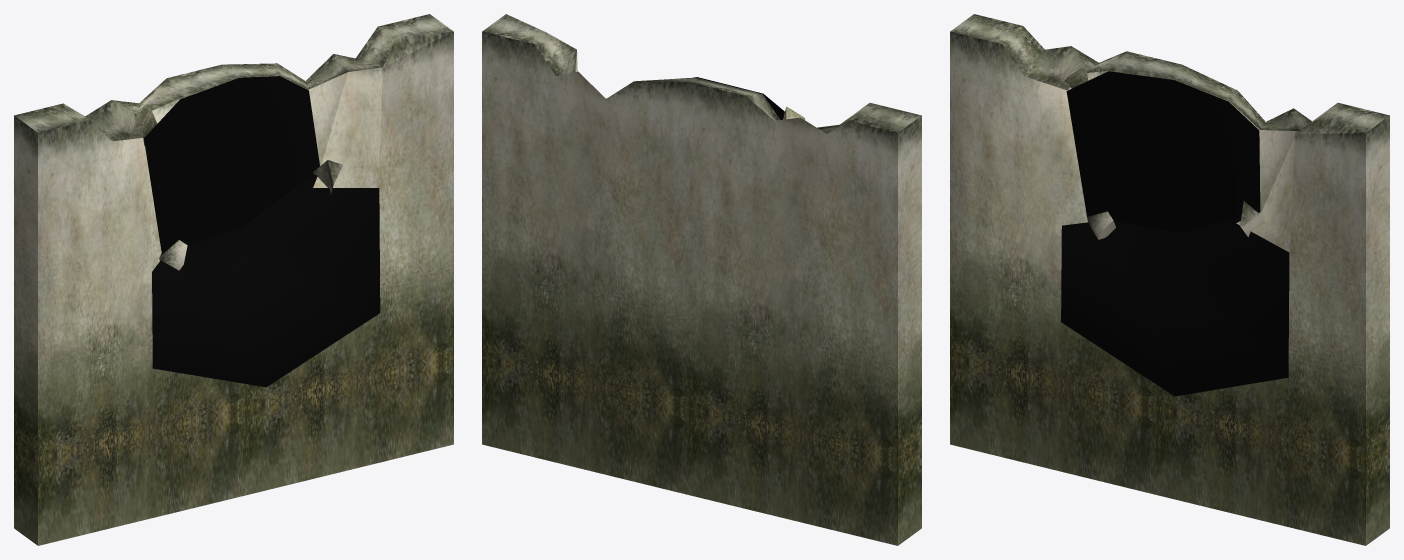
The model's file is pir_m_bld_wal_stuccoTall20_burned.fbx.
3 renders of one model, left to right at view 1: azimuth 30°, elevation 25°; view 2: azimuth 150°, elevation 25°; view 3: azimuth 330°, elevation 25°, orthographic.
Visible parts, largest first — view 1: TallWallBaseMesh, cracks, cracks1, rubble_1; view 2: TallWallBaseMesh; view 3: TallWallBaseMesh, cracks, cracks1, rubble_1.
Part boxes in pixels (box(x1,y1,x2,y2)): TallWallBaseMesh: box(14, 14, 453, 545); cracks: box(152, 174, 380, 387); cracks1: box(144, 76, 319, 254); rubble_1: box(159, 240, 187, 270); TallWallBaseMesh: box(482, 14, 921, 545); TallWallBaseMesh: box(950, 14, 1389, 545); cracks: box(1061, 212, 1289, 396); cracks1: box(1066, 71, 1260, 232); rubble_1: box(1087, 211, 1115, 239).
Bounding box in the file's own units: 2002 × 1900 × 226.
Materials: 2 (2 with a texture image).
